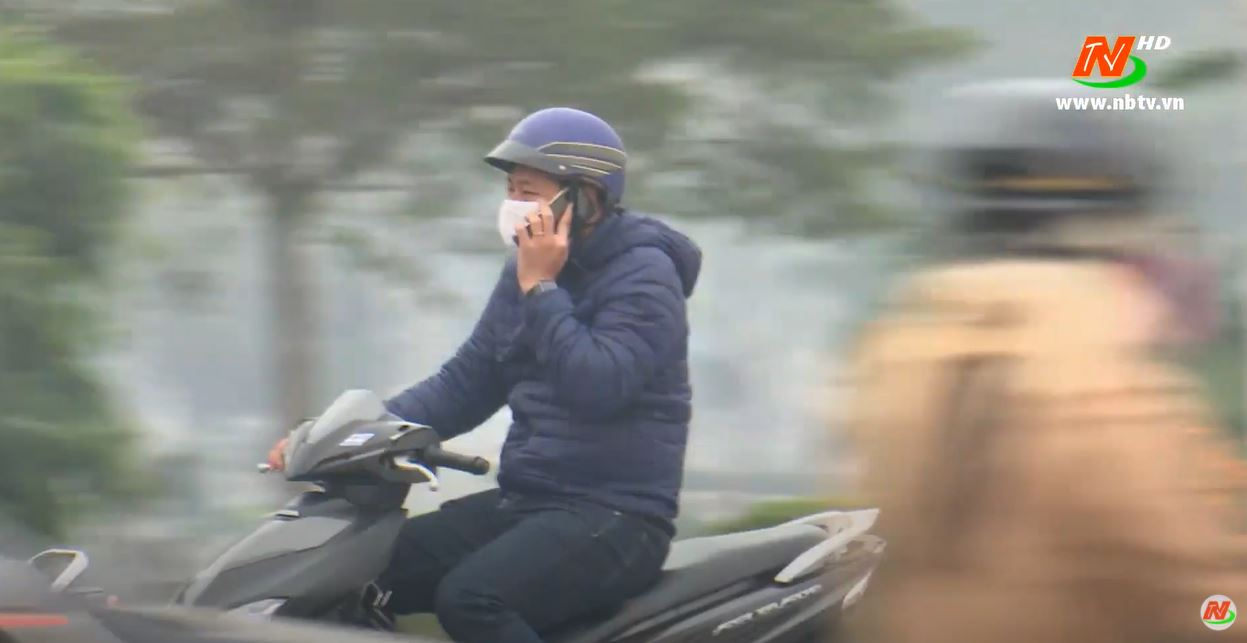dieu khien xe may: (180, 104, 685, 628)
su dung dien thoai: (485, 108, 628, 292)
